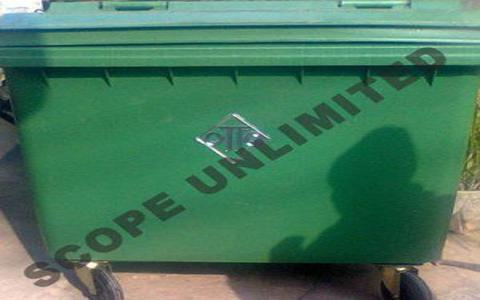Proper garbage: (1, 1, 478, 298)
